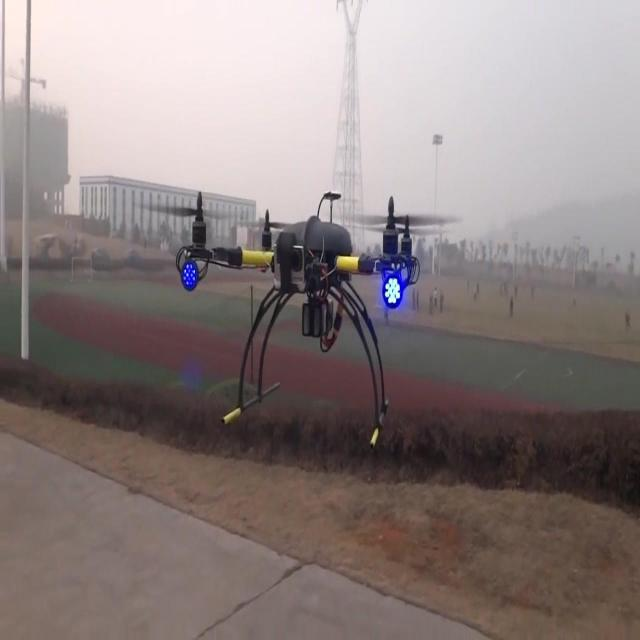UAV: (153, 192, 455, 450)
